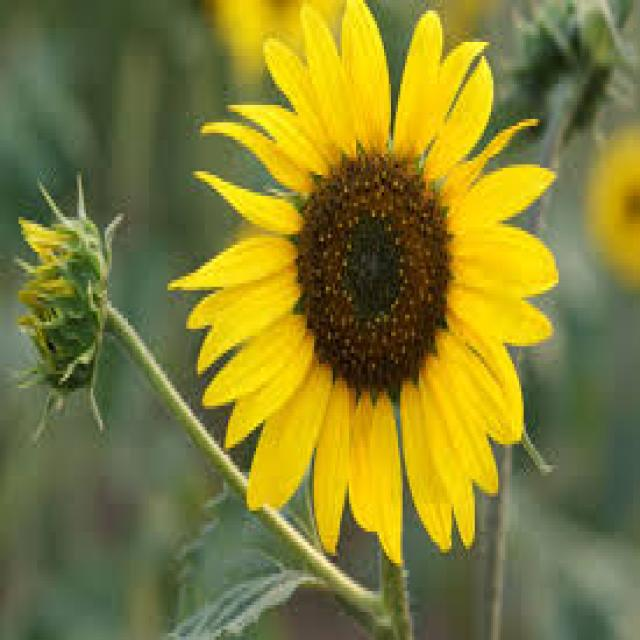sunflower: (163, 0, 554, 574)
